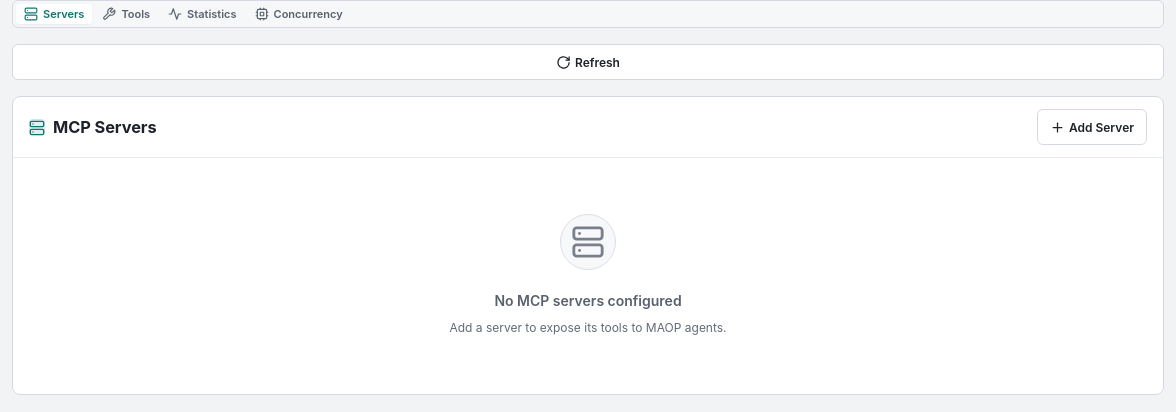
Test: McpManager.vue › renders tools list when /api/mcp/tools returns data
# tabOptions: servers, tools, stats, concurrency → tools is index 1
Step 1. Click the radio button with class "segmented__item" showing "Tools" → (126, 14), box [94,4,158,24]
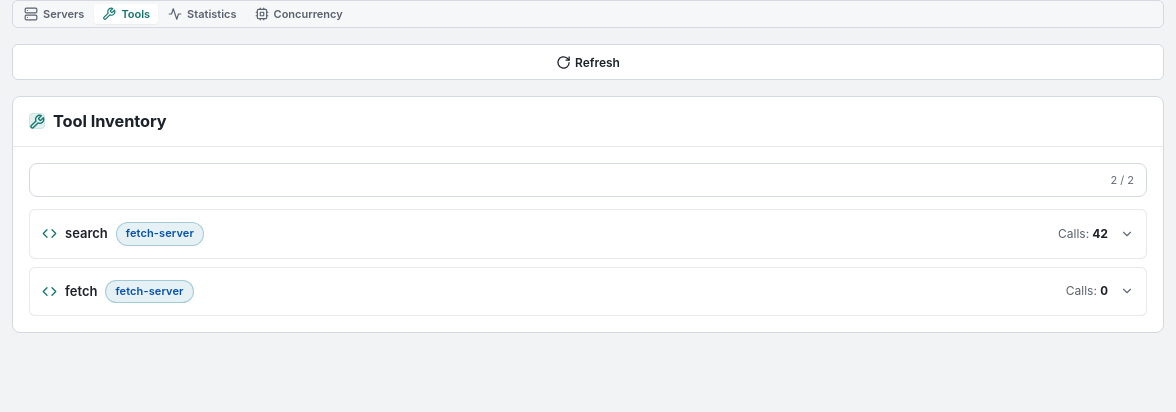
Result: the number of elements with class "tool-item" is 2 at [29,209,1147,259]; [29,267,1147,316]
Result: the text "search" is shown at [65,224,108,244]
Result: the text "fetch" is shown at [126,226,194,240]
